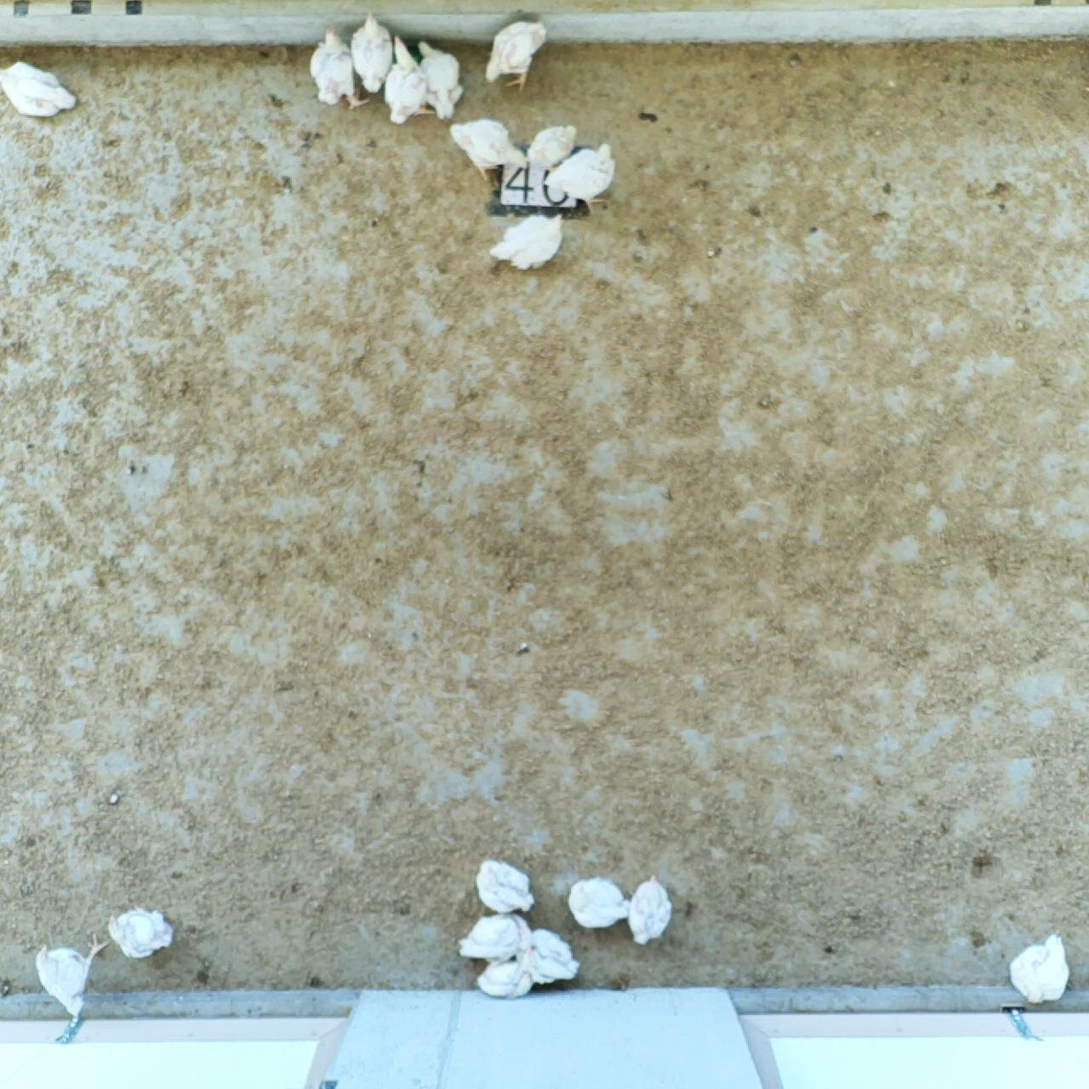chicken: (34, 933, 109, 1026), (543, 142, 616, 215), (310, 26, 369, 109), (450, 119, 527, 181), (485, 20, 547, 91), (384, 37, 434, 123), (1, 62, 77, 117), (490, 214, 563, 271), (1011, 935, 1069, 1003), (417, 40, 463, 117), (106, 909, 174, 961), (476, 858, 535, 915), (567, 876, 630, 929), (459, 914, 530, 961), (519, 929, 579, 984), (352, 12, 391, 94), (629, 875, 672, 945), (527, 125, 578, 170), (476, 961, 533, 998)
